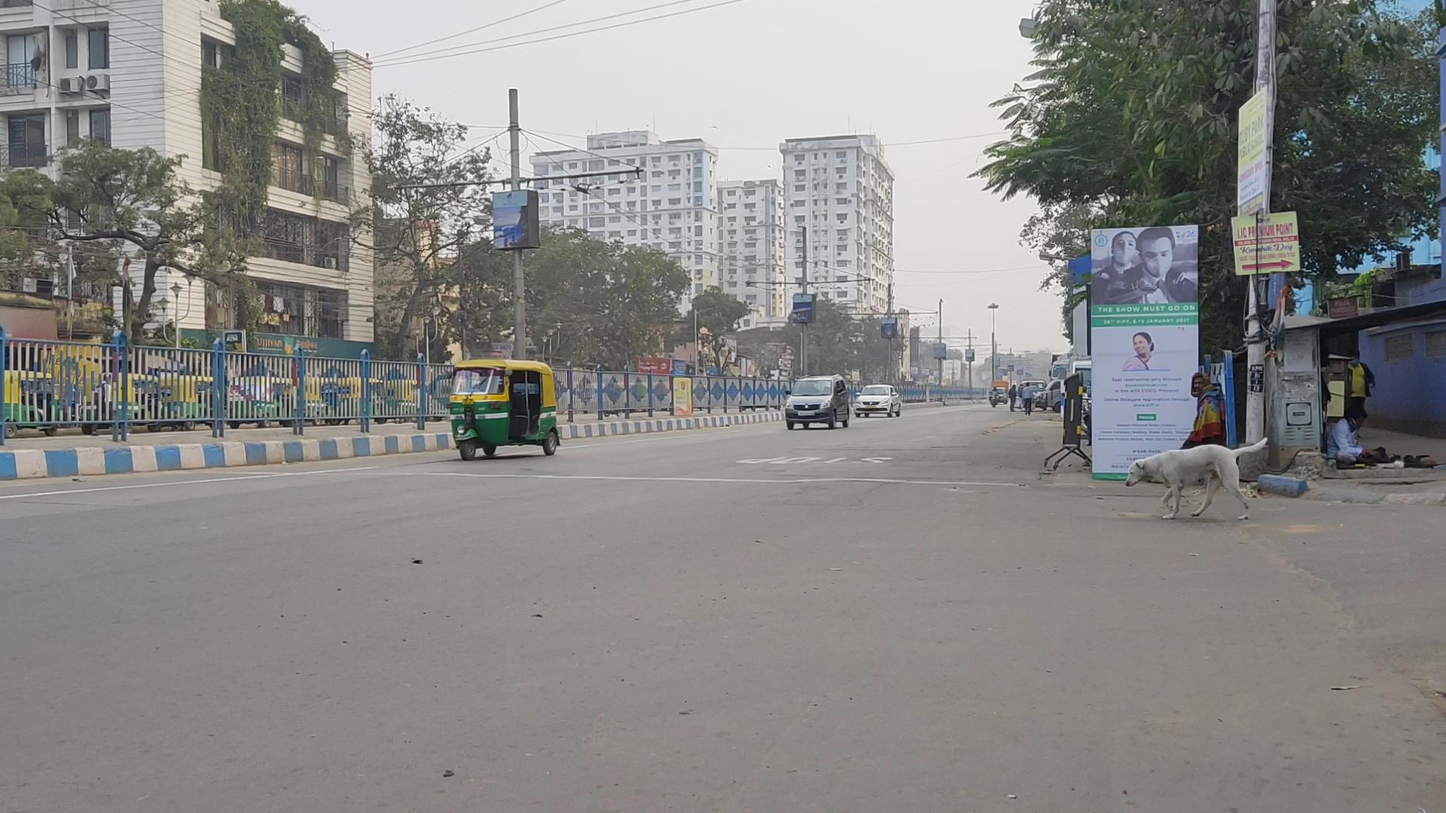Auto: (445, 359, 560, 460)
bike: (990, 385, 999, 408)
car: (785, 374, 850, 431), (855, 384, 901, 418), (1018, 379, 1048, 411)
van: (990, 380, 1009, 405)
